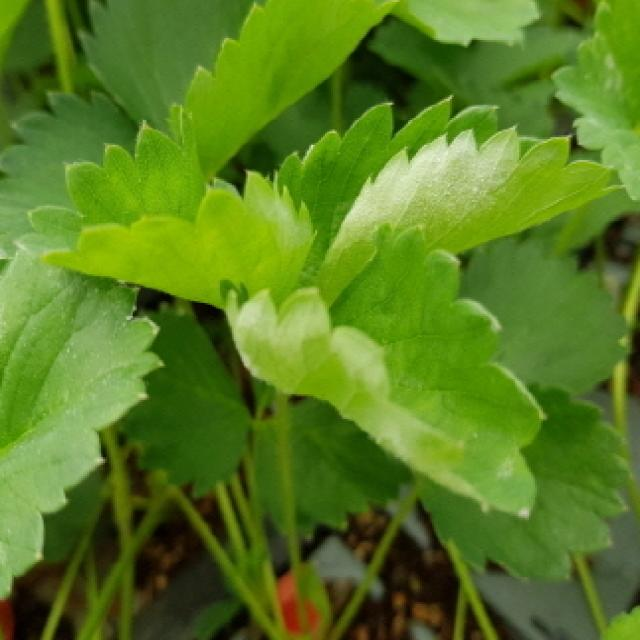Powdery Mildew Leaf: (218, 222, 547, 522), (271, 91, 634, 292), (0, 245, 167, 561)
